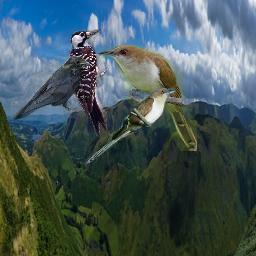Crow: (11, 56, 92, 121)
Cuckoo: (97, 45, 197, 151), (83, 87, 178, 167)
Woodpecker: (69, 29, 107, 136)
